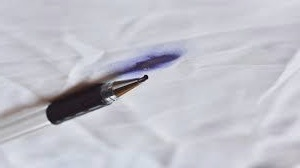ink: (126, 51, 180, 72)
